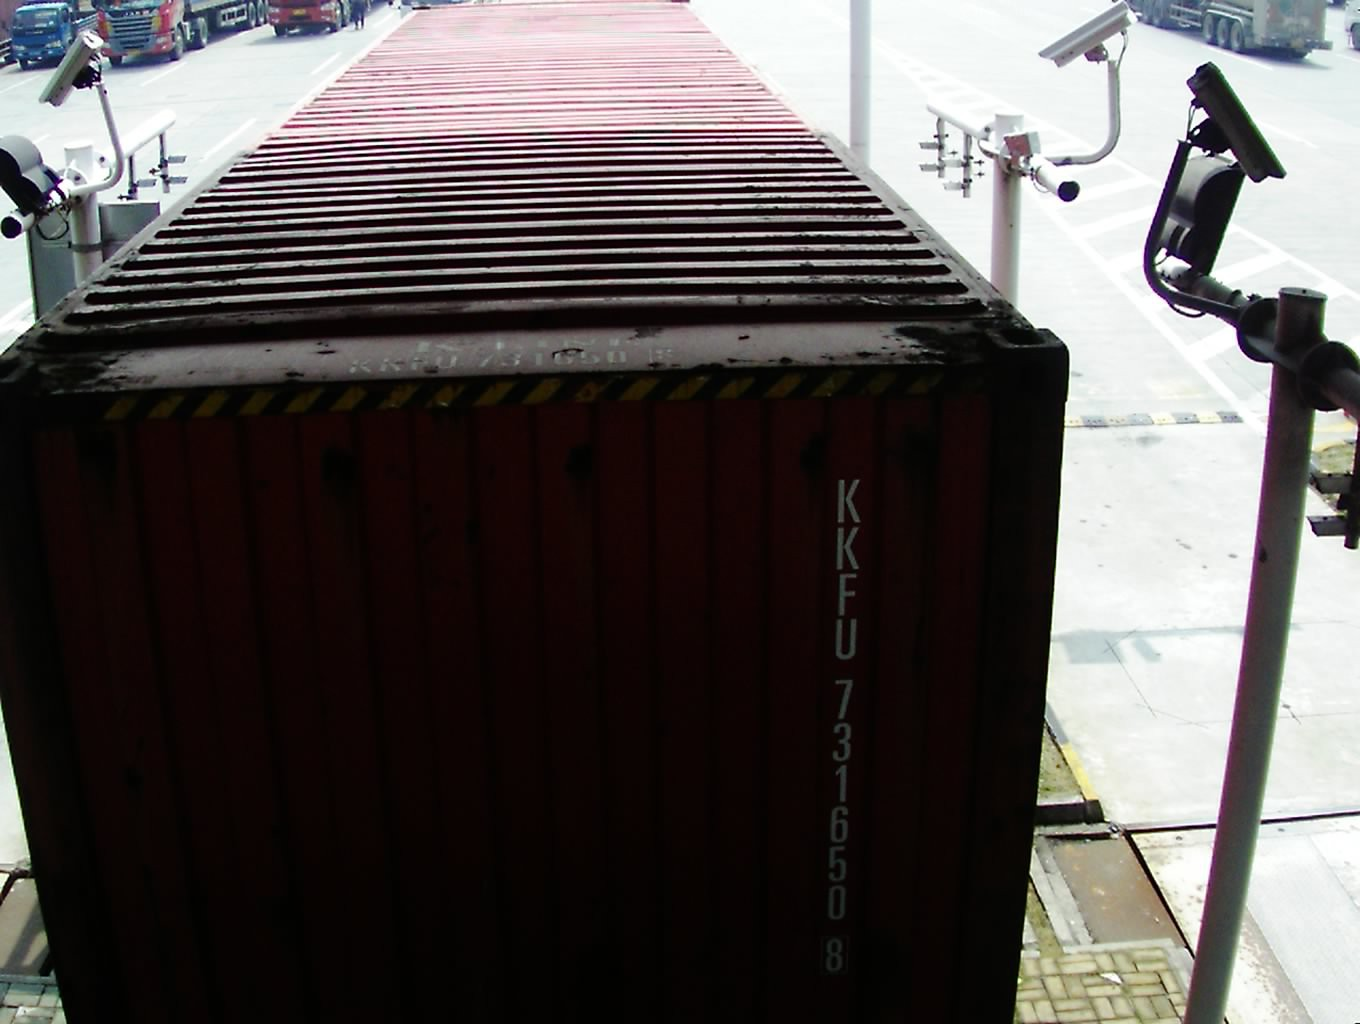words: (820, 467, 867, 983)
